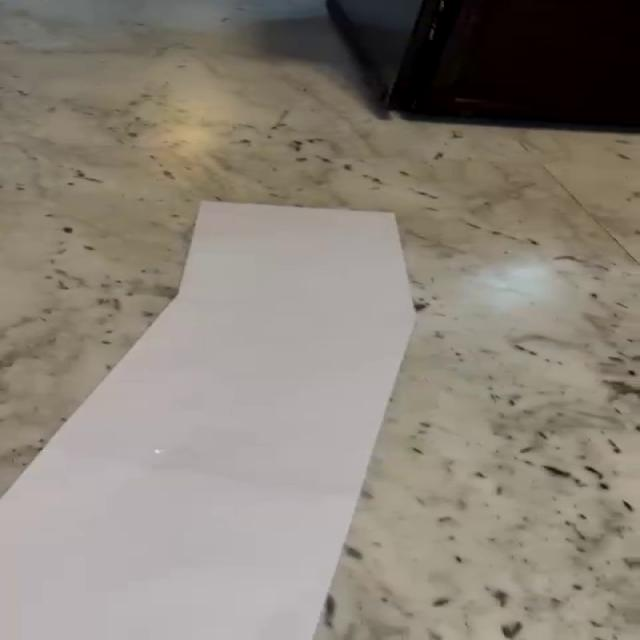road: (2, 202, 415, 640)
